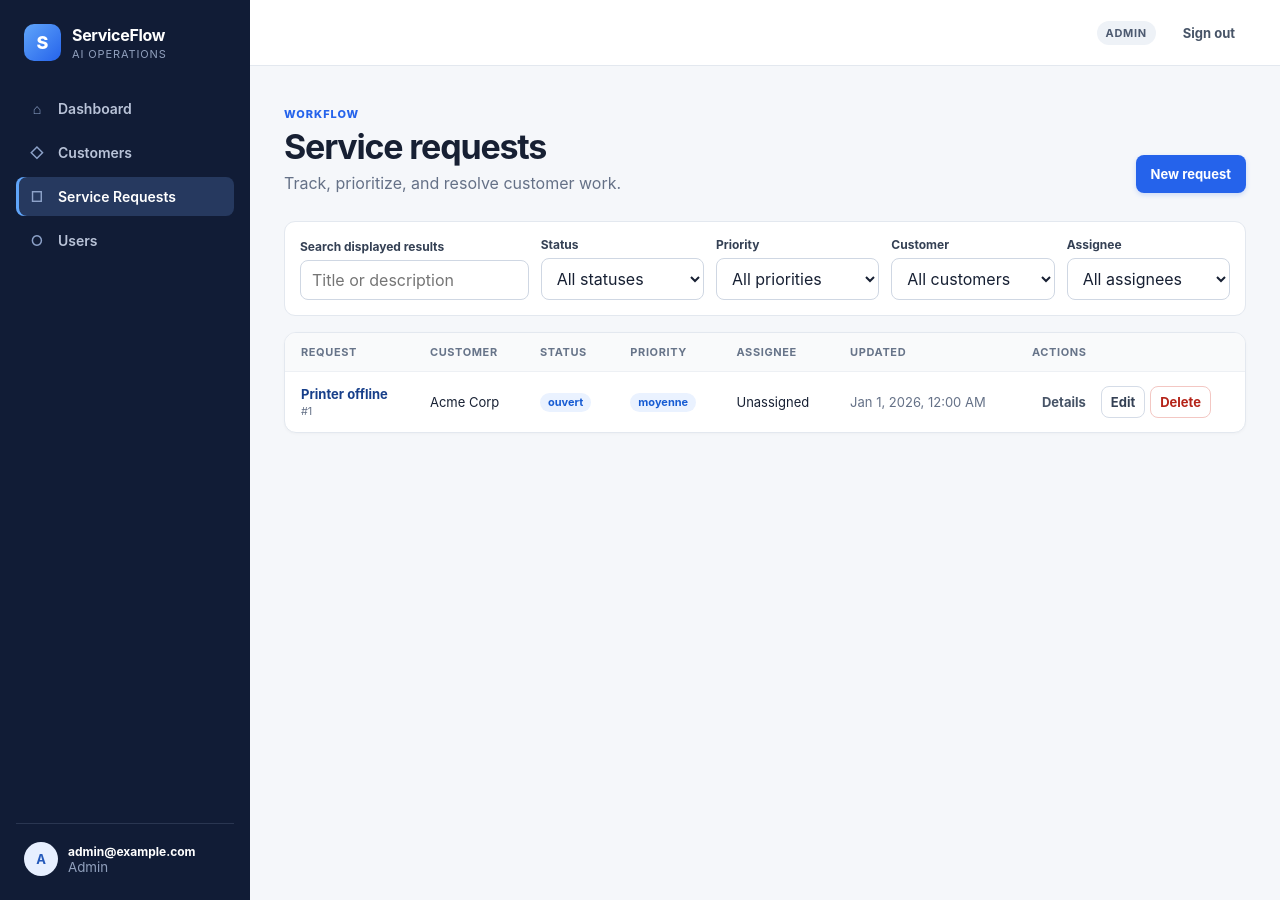
Test: AI ticket suggestions › shows a small fallback when AI is unavailable
The image size is (1280, 900).
What coordinates should you click on to do the following:
click the button "Printer offline"
I would click on:
 (344, 394)
Its box is [301,386,388,402].
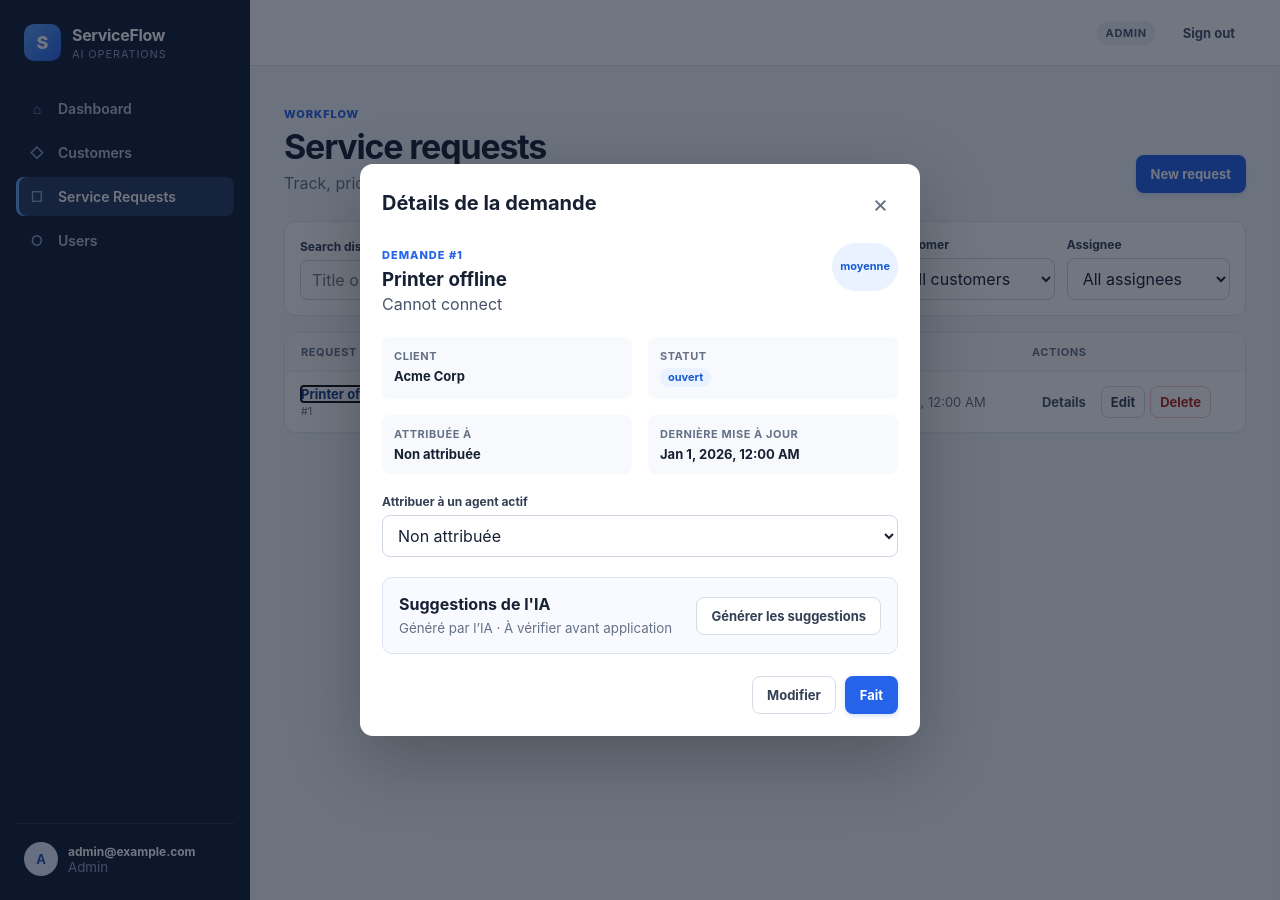
What coordinates should you click on to do the following:
click the button "Générer les suggestions"
I would click on:
 (789, 616)
Its box is [696,597,881,635].
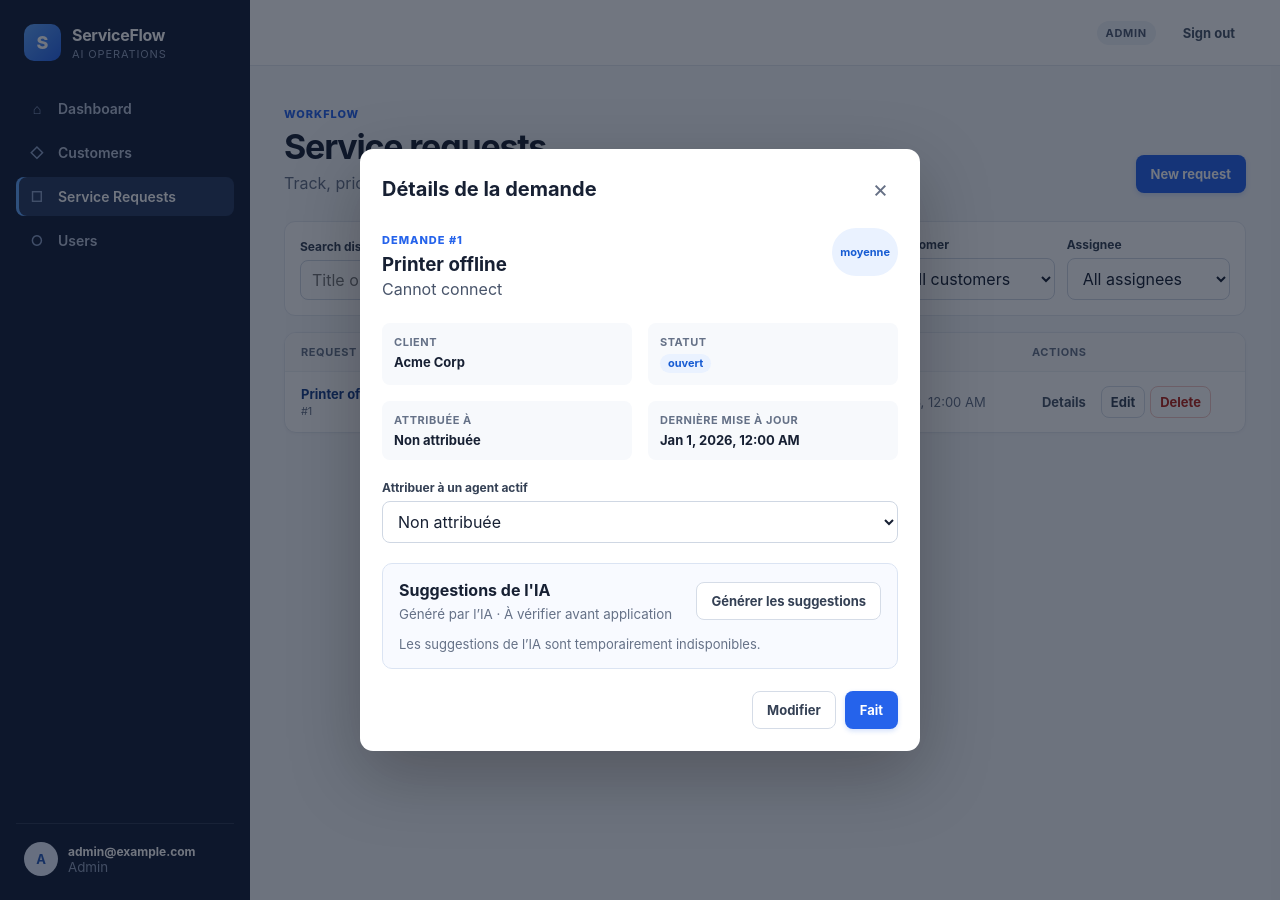
Result: the button "Fait" is enabled at [845,691,898,729]
Result: the text "Les suggestions de l’IA sont temporairement indisponibles." is shown at [399,636,761,652]
